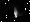person: (16, 7, 24, 19)
